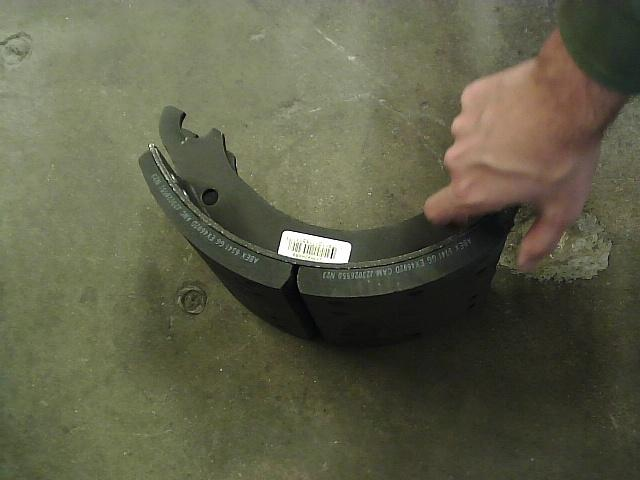brake-shoes: (139, 105, 517, 350)
